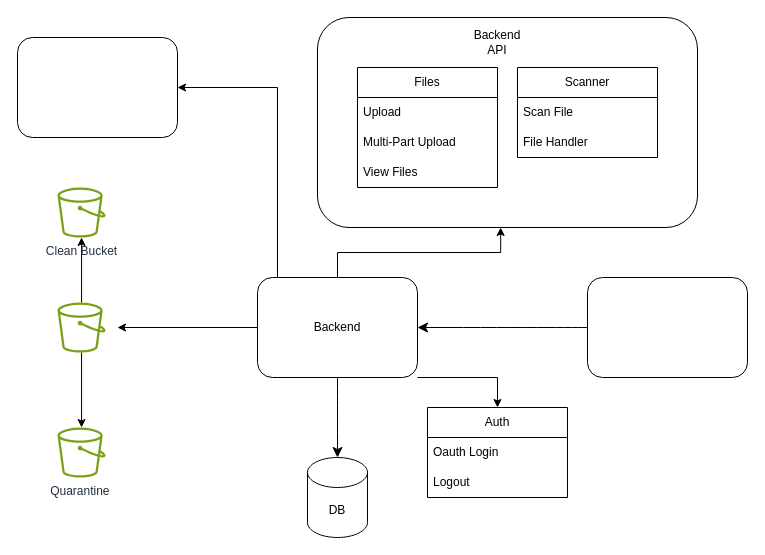
The diagram is 765 pixels wide and 555 high, and some of its shapes have lost their labels. The centre of each missing label's shape, as x and y in pixels:
"Clam AV" belongs at pixel 97 87.
"Frontend" belongs at pixel 667 327.
"Scan Bucket" belongs at pixel 81 327.
